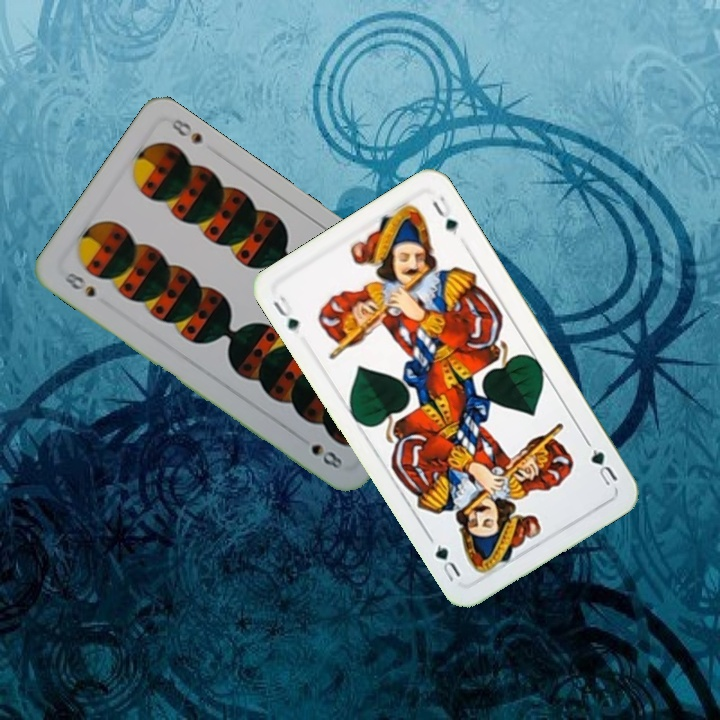GU: (586, 444, 621, 489), (269, 291, 302, 335)
S8: (59, 268, 99, 300)
